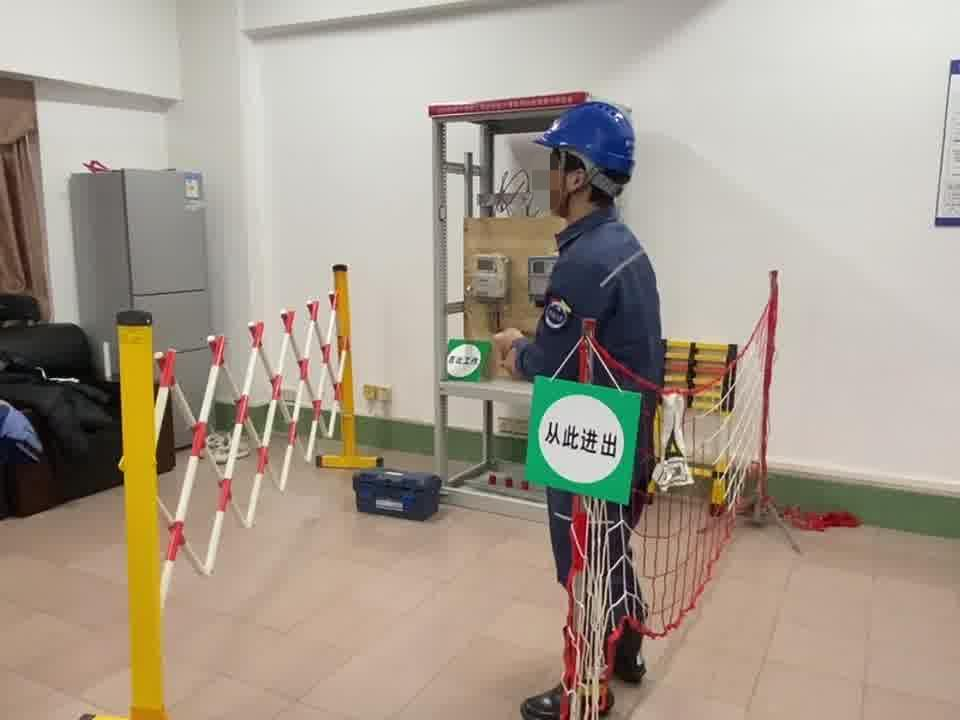halt: (537, 103, 641, 220)
inear: (558, 155, 598, 209)
